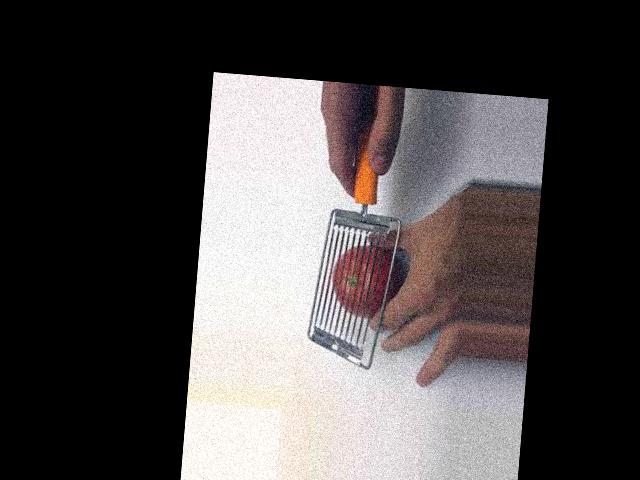tomato: (330, 241, 402, 318)
